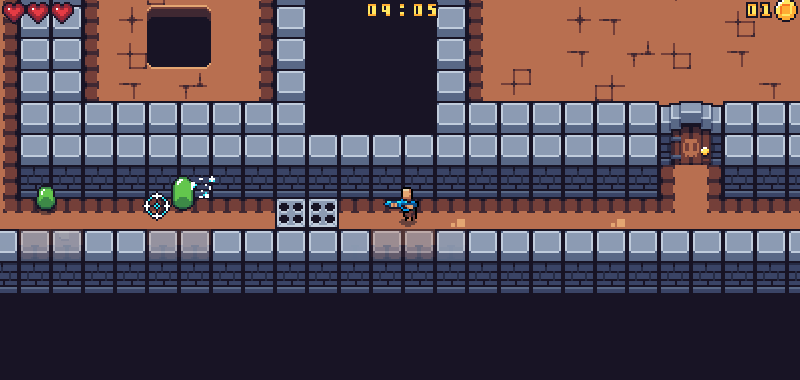door: (656, 101, 724, 166)
enemy_slug: (168, 176, 197, 211), (33, 184, 58, 212)
trap_off: (275, 196, 339, 230)
